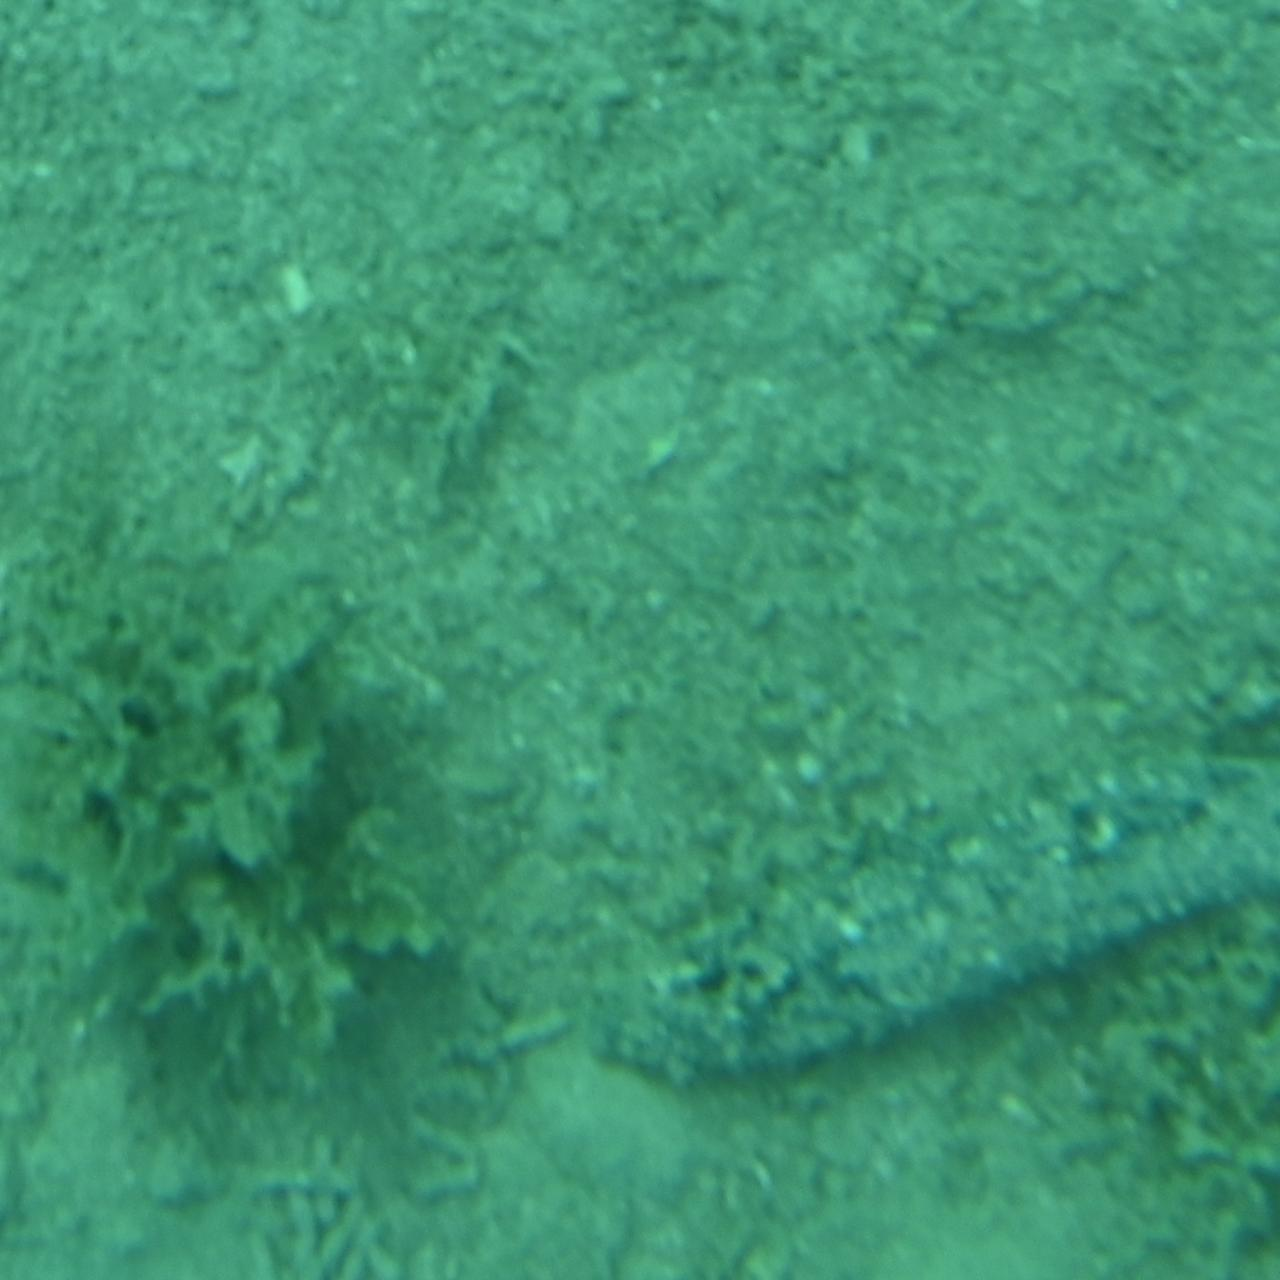Holothuria tubulosa: (584, 738, 1280, 1097)
Phaeophyceae -cfr Cystoseira-: (0, 530, 486, 1136)
